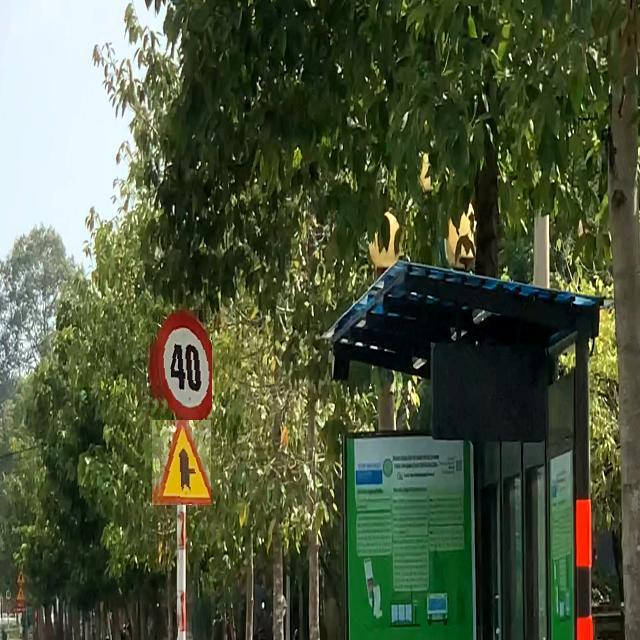P-127: (150, 310, 212, 420)
W-207b: (152, 418, 211, 505)
